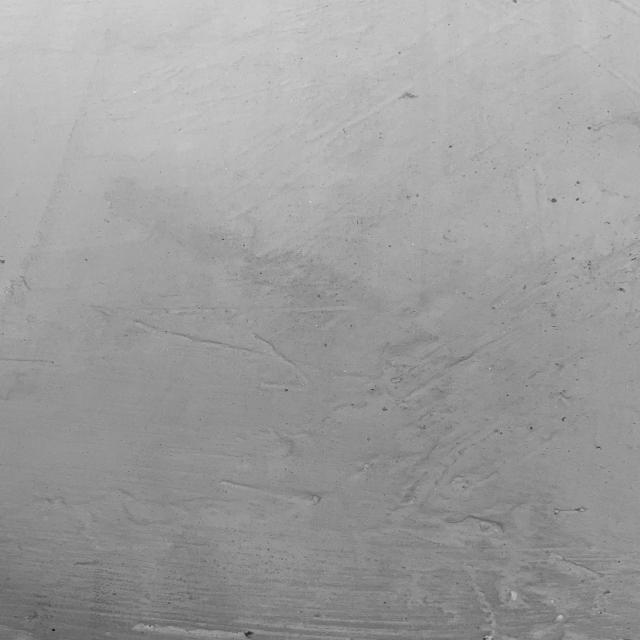rough and patchy surface: (17, 14, 623, 632)
